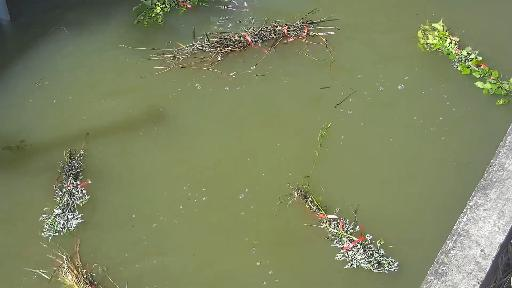twig: (287, 120, 409, 275), (140, 3, 336, 83), (403, 13, 512, 115), (42, 124, 107, 234), (126, 0, 247, 35), (32, 234, 102, 288)
